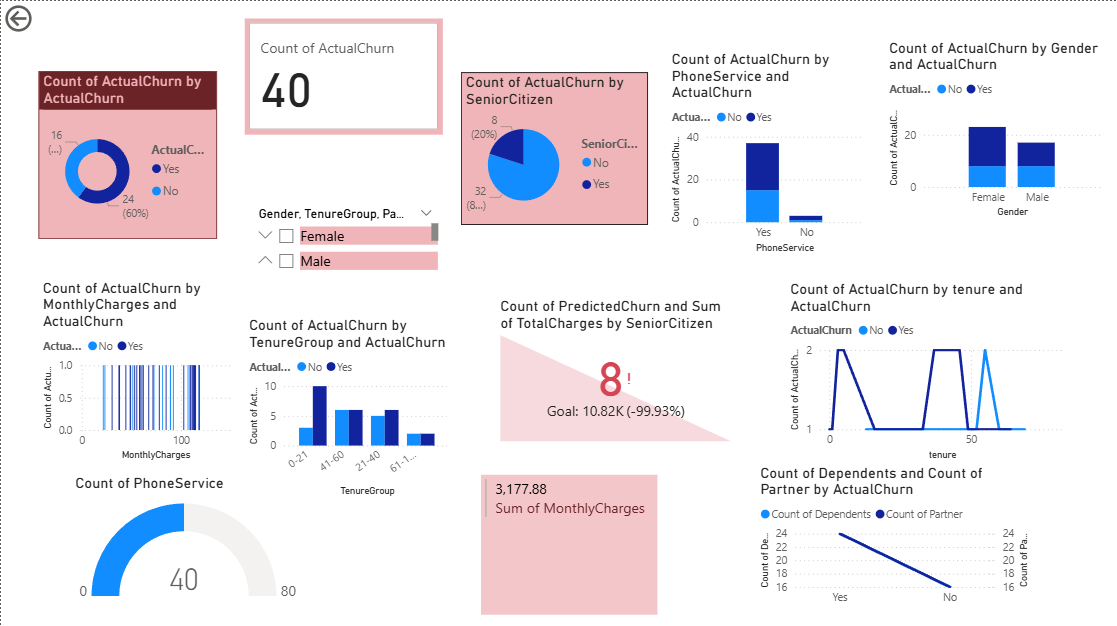

This screenshot's page, from the dashboard's own definition file:
{"tool":"powerbi","page":{"name":"Page 1","canvas":[1280,720],"ordinal":0},"visuals":[{"type":"cardVisual","fields":{"Data":["CountNonNull(cleaned_telecom_churn_dashboard_data (1).ActualChurn)"]},"box":[278.3,20.6,226.2,133],"z":0},{"type":"donutChart","fields":{"Category":["cleaned_telecom_churn_dashboard_data (1).ActualChurn"],"Y":["CountNonNull(cleaned_telecom_churn_dashboard_data (1).ActualChurn)"]},"box":[42.8,80,204.2,191.8],"z":1000},{"type":"pieChart","fields":{"Category":["cleaned_telecom_churn_dashboard_data (1).SeniorCitizen"],"Y":["CountNonNull(cleaned_telecom_churn_dashboard_data (1).ActualChurn)"]},"box":[526.4,80.9,213.8,174.1],"z":2000},{"type":"columnChart","fields":{"Category":["cleaned_telecom_churn_dashboard_data (1).Gender"],"Series":["cleaned_telecom_churn_dashboard_data (1).ActualChurn"],"Y":["CountNonNull(cleaned_telecom_churn_dashboard_data (1).ActualChurn)"]},"box":[1010.2,42.5,252.2,209.7],"z":3000},{"type":"clusteredColumnChart","fields":{"Category":["cleaned_telecom_churn_dashboard_data (1).TenureGroup"],"Series":["cleaned_telecom_churn_dashboard_data (1).ActualChurn"],"Y":["CountNonNull(cleaned_telecom_churn_dashboard_data (1).ActualChurn)"]},"box":[278.3,360.5,239.9,211.1],"z":4000},{"type":"lineStackedColumnComboChart","fields":{"Category":["cleaned_telecom_churn_dashboard_data (1).MonthlyCharges"],"Y":["CountNonNull(cleaned_telecom_churn_dashboard_data (1).ActualChurn)"],"Series":["cleaned_telecom_churn_dashboard_data (1).ActualChurn"]},"box":[42.9,317,235.3,213.1],"z":5000},{"type":"lineChart","fields":{"Category":["cleaned_telecom_churn_dashboard_data (1).tenure"],"Y":["CountNonNull(cleaned_telecom_churn_dashboard_data (1).ActualChurn)"],"Series":["cleaned_telecom_churn_dashboard_data (1).ActualChurn"]},"box":[897.8,318,323.5,211.1],"z":6000},{"type":"columnChart","fields":{"Category":["cleaned_telecom_churn_dashboard_data (1).PhoneService"],"Y":["CountNonNull(cleaned_telecom_churn_dashboard_data (1).ActualChurn)"],"Series":["cleaned_telecom_churn_dashboard_data (1).ActualChurn"]},"box":[762.1,56.2,228.9,237.1],"z":7000},{"type":"slicer","fields":{"Values":["cleaned_telecom_churn_dashboard_data (1).Gender","cleaned_telecom_churn_dashboard_data (1).TenureGroup","cleaned_telecom_churn_dashboard_data (1).Partner","cleaned_telecom_churn_dashboard_data (1).SeniorCitizen","cleaned_telecom_churn_dashboard_data (1).PhoneService"]},"box":[281,230.3,223.4,82.2],"z":8000},{"type":"actionButton","box":[0,0,100,40],"z":9000},{"type":"kpi","fields":{"Indicator":["CountNonNull(cleaned_telecom_churn_dashboard_data (1).PredictedChurn)"],"TrendLine":["cleaned_telecom_churn_dashboard_data (1).SeniorCitizen"],"Goal":["Sum(cleaned_telecom_churn_dashboard_data (1).TotalCharges)"]},"box":[566.1,338.6,274.1,170],"z":10000},{"type":"gauge","fields":{"Y":["CountNonNull(cleaned_telecom_churn_dashboard_data (1).PhoneService)"]},"box":[79.5,540.1,267.3,160.4],"z":10001},{"type":"multiRowCard","fields":{"Values":["Sum(cleaned_telecom_churn_dashboard_data (1).MonthlyCharges)"]},"box":[548.3,541.4,201.5,160.4],"z":10002},{"type":"lineChart","fields":{"Category":["cleaned_telecom_churn_dashboard_data (1).ActualChurn"],"Y":["CountNonNull(cleaned_telecom_churn_dashboard_data (1).Dependents)"],"Y2":["CountNonNull(cleaned_telecom_churn_dashboard_data (1).Partner)"]},"box":[863.6,529.1,318,171.3],"z":10003}]}

Visuals, with their boxes on the page's 1280x720 design canvas (x1, y1, x2, y2). These are canvas units, not pixel positions in the 1117x626 screenshot, which may show the page scaled, cropped or inside an application window:
cardVisual - CountNonNull(cleaned_telecom_churn_dashboard_data (1).ActualChurn): left=278, top=21, right=504, bottom=154
donutChart - cleaned_telecom_churn_dashboard_data (1).ActualChurn x CountNonNull(cleaned_telecom_churn_dashboard_data (1).ActualChurn): left=43, top=80, right=247, bottom=272
pieChart - cleaned_telecom_churn_dashboard_data (1).SeniorCitizen x CountNonNull(cleaned_telecom_churn_dashboard_data (1).ActualChurn): left=526, top=81, right=740, bottom=255
columnChart - cleaned_telecom_churn_dashboard_data (1).Gender x cleaned_telecom_churn_dashboard_data (1).ActualChurn: left=1010, top=42, right=1262, bottom=252
clusteredColumnChart - cleaned_telecom_churn_dashboard_data (1).TenureGroup x cleaned_telecom_churn_dashboard_data (1).ActualChurn: left=278, top=360, right=518, bottom=572
lineStackedColumnComboChart - cleaned_telecom_churn_dashboard_data (1).MonthlyCharges x CountNonNull(cleaned_telecom_churn_dashboard_data (1).ActualChurn): left=43, top=317, right=278, bottom=530
lineChart - cleaned_telecom_churn_dashboard_data (1).tenure x CountNonNull(cleaned_telecom_churn_dashboard_data (1).ActualChurn): left=898, top=318, right=1221, bottom=529
columnChart - cleaned_telecom_churn_dashboard_data (1).PhoneService x CountNonNull(cleaned_telecom_churn_dashboard_data (1).ActualChurn): left=762, top=56, right=991, bottom=293
slicer - cleaned_telecom_churn_dashboard_data (1).Gender x cleaned_telecom_churn_dashboard_data (1).TenureGroup: left=281, top=230, right=504, bottom=312
actionButton: left=0, top=0, right=100, bottom=40
kpi - CountNonNull(cleaned_telecom_churn_dashboard_data (1).PredictedChurn) x cleaned_telecom_churn_dashboard_data (1).SeniorCitizen: left=566, top=339, right=840, bottom=509
gauge - CountNonNull(cleaned_telecom_churn_dashboard_data (1).PhoneService): left=80, top=540, right=347, bottom=700
multiRowCard - Sum(cleaned_telecom_churn_dashboard_data (1).MonthlyCharges): left=548, top=541, right=750, bottom=702
lineChart - cleaned_telecom_churn_dashboard_data (1).ActualChurn x CountNonNull(cleaned_telecom_churn_dashboard_data (1).Dependents): left=864, top=529, right=1182, bottom=700
